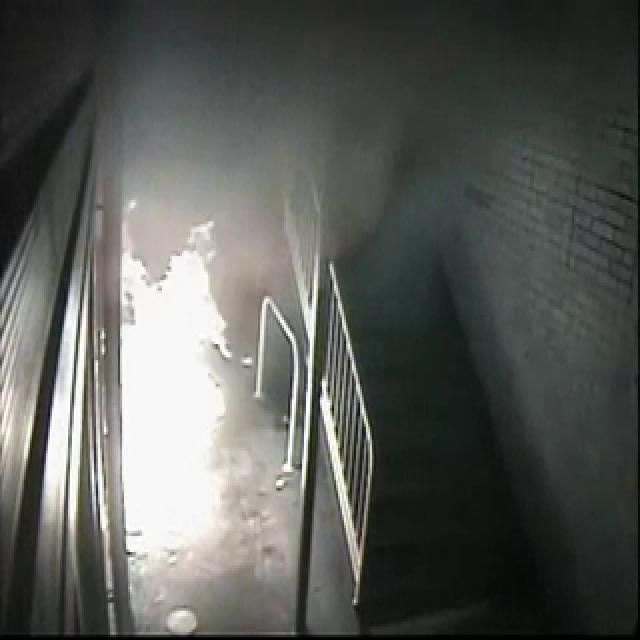arson: (60, 0, 394, 589)
